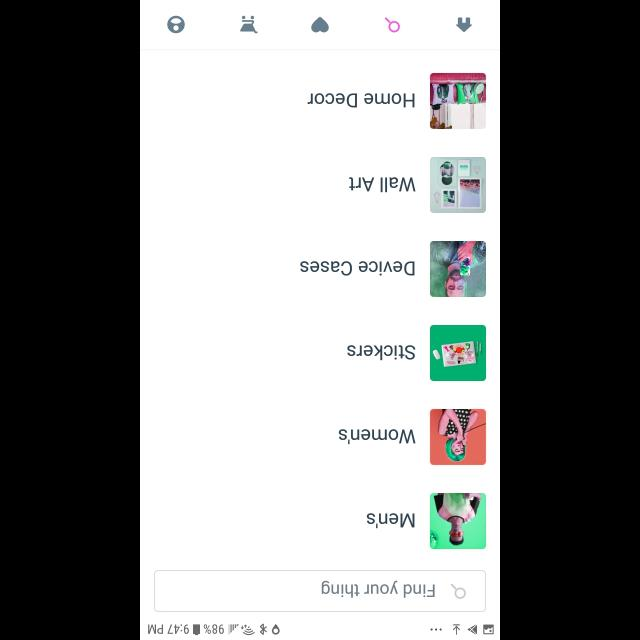icon: (167, 15, 185, 33), (240, 16, 258, 34), (311, 17, 329, 33), (450, 583, 466, 599), (384, 18, 400, 32), (456, 18, 472, 32)
image: (430, 493, 486, 549), (430, 409, 486, 465), (430, 325, 486, 381), (430, 241, 486, 297), (430, 157, 486, 213), (430, 73, 486, 129)
input: (154, 570, 486, 612)
text: (321, 580, 435, 598), (300, 260, 414, 276), (306, 92, 414, 108), (338, 428, 416, 444), (346, 344, 416, 360), (348, 176, 416, 192), (366, 512, 414, 528)
uppertaskbar: (140, 622, 500, 640)
